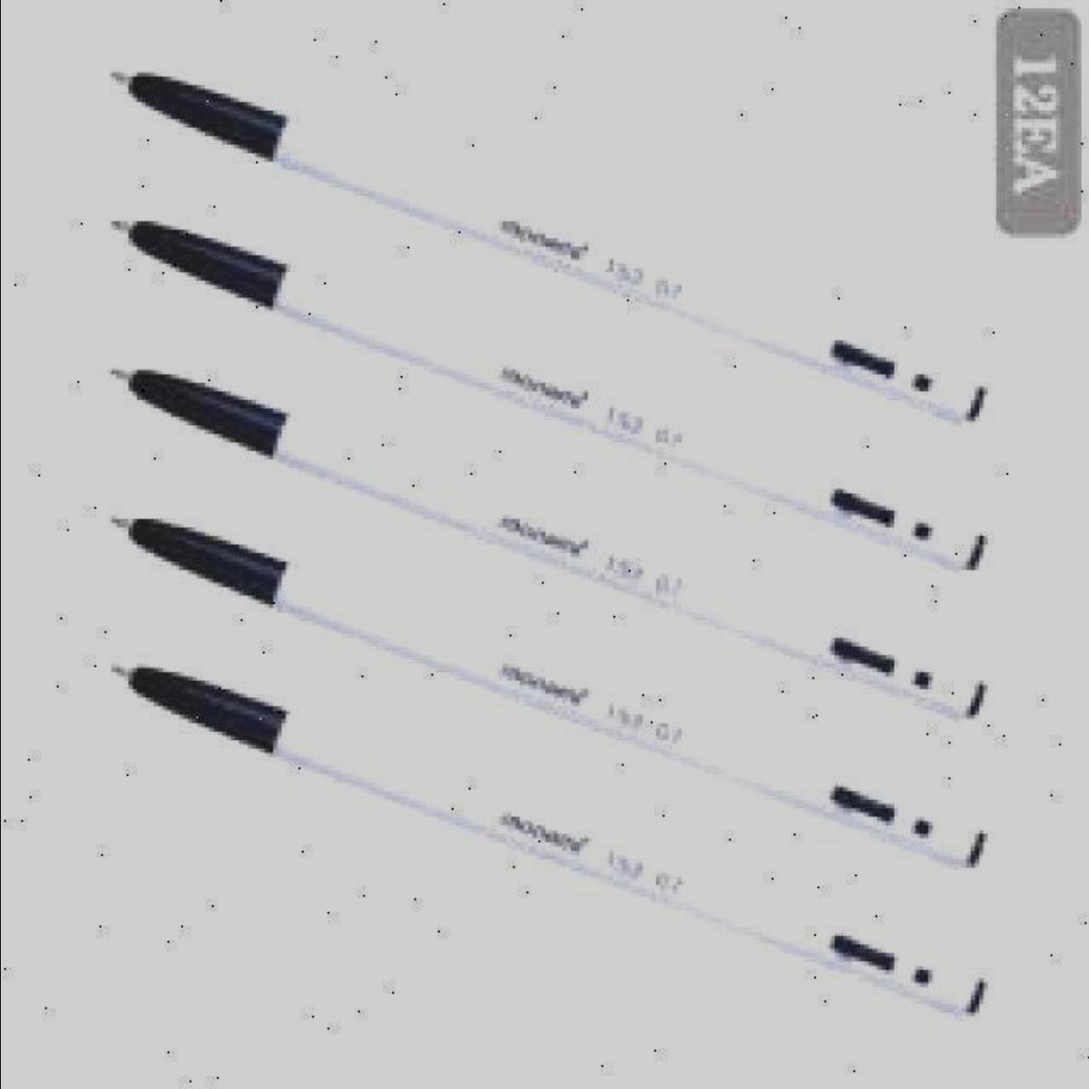pen: (105, 63, 990, 434), (105, 509, 987, 880), (105, 213, 990, 579), (111, 364, 987, 727), (111, 672, 987, 1021)
